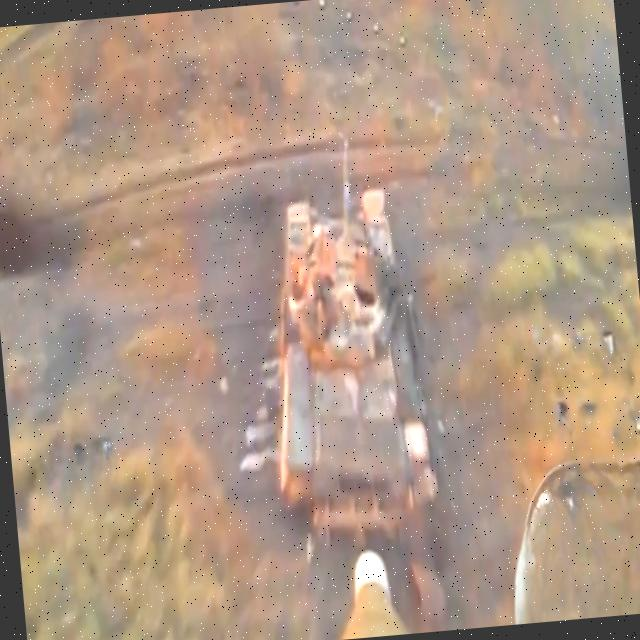MBT: (249, 130, 451, 557)
